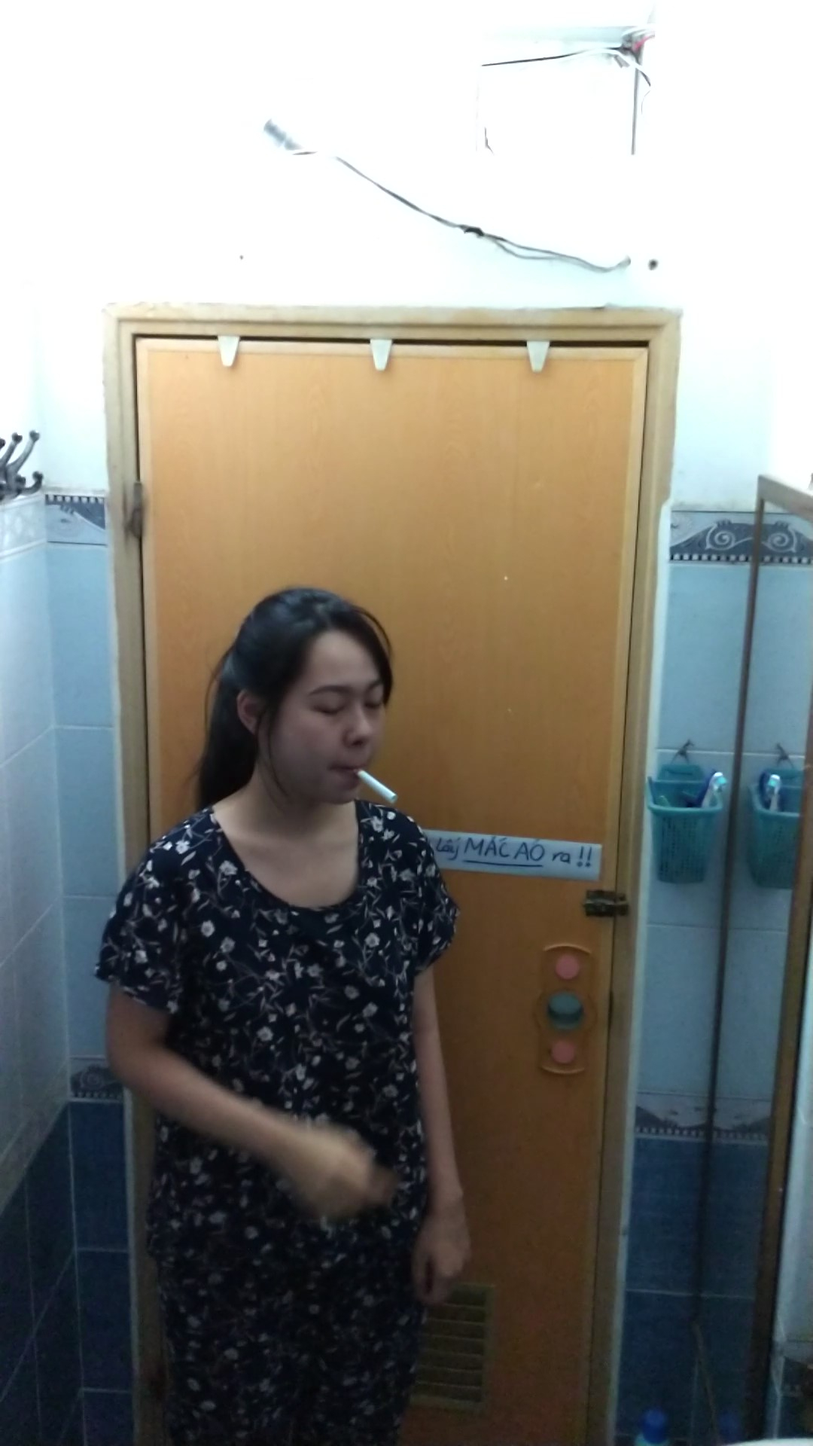cigarette: (353, 767, 401, 810)
person: (93, 576, 490, 1446)
